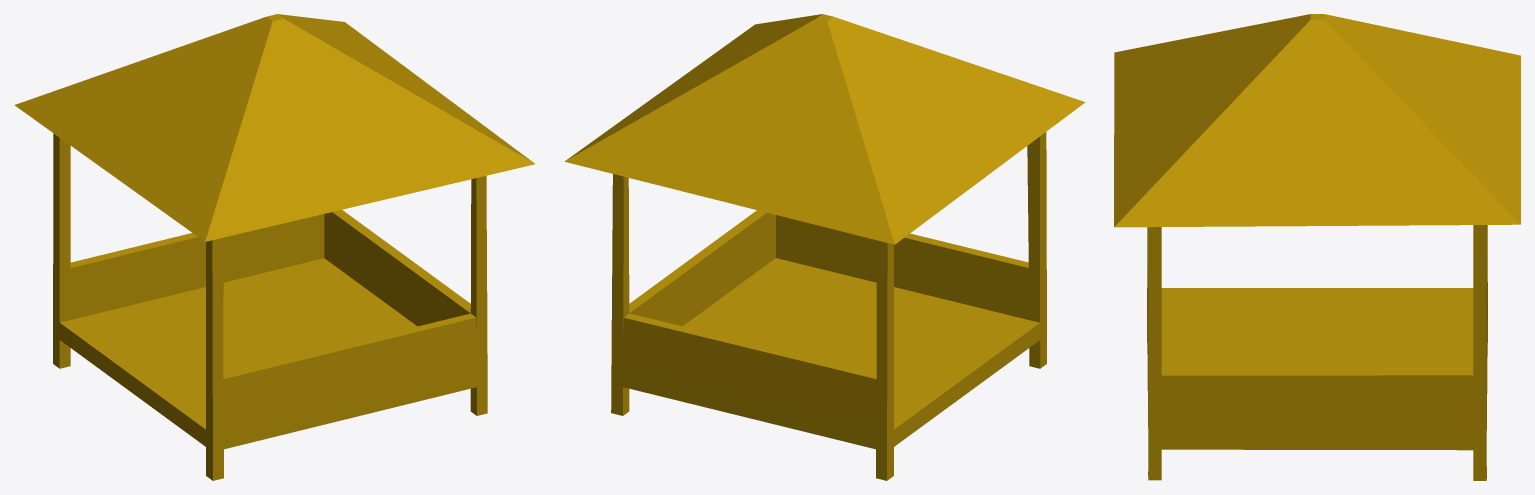
The model's file is gubuk-level1.glb.
3 renders of one model, left to right at view 1: azimuth 30°, elevation 25°; view 2: azimuth 150°, elevation 25°; view 3: azimuth 270°, elevation 25°, orthographic. The views are drawn at different scales.
Parts seen in each view (by area): view 1: Mesh_0; view 2: Mesh_0; view 3: Mesh_0.
Boxes of the visible parts, x1,y1,x2,y2 form: Mesh_0: (14, 14, 535, 480); Mesh_0: (565, 14, 1085, 480); Mesh_0: (1114, 14, 1520, 480).
Size of the model in its own units: 16.27 by 17.4 by 16.27.
